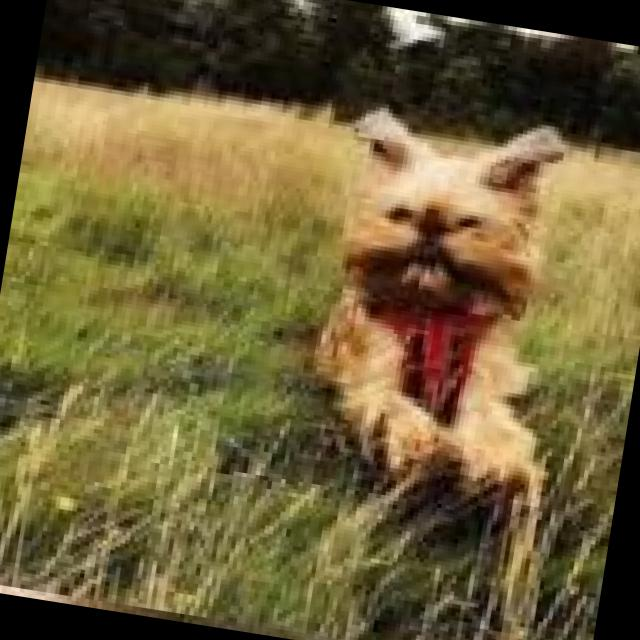Perro: (293, 82, 604, 504)
